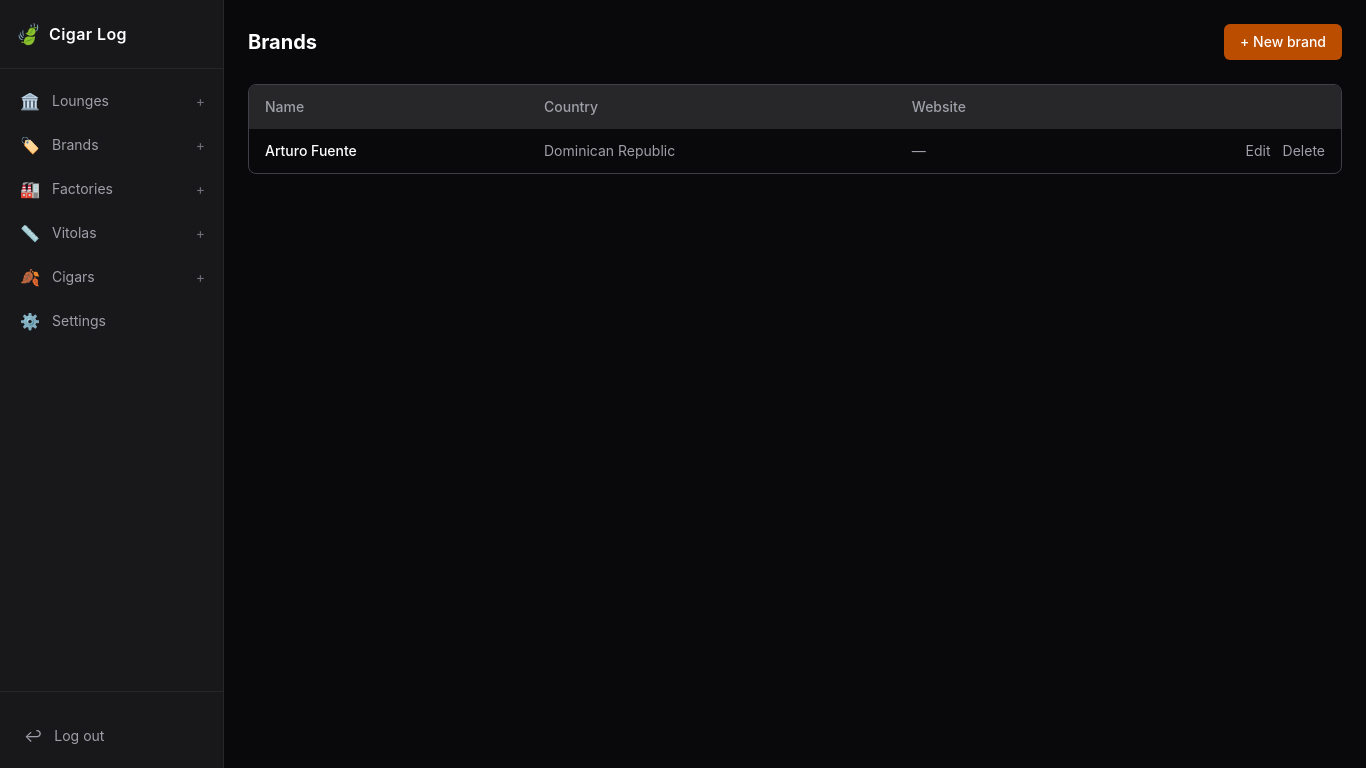
BrandsPage › opens create modal when New brand is clicked
Click the button "+ New brand" at {"x": 1283, "y": 42}, box top-left (1224, 24), bottom-right (1342, 60)
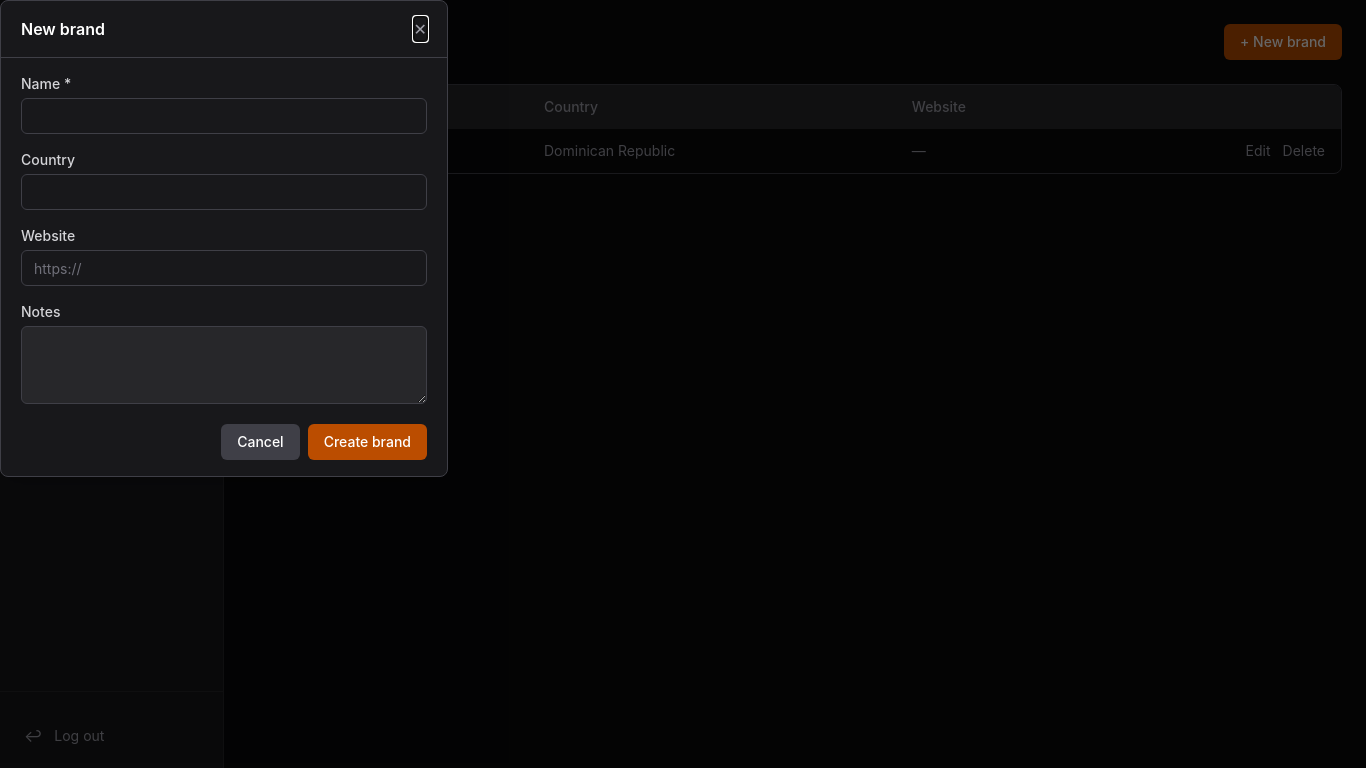
Now the heading "New brand" is shown, box top-left (21, 17), bottom-right (105, 41)
Now the field below "Name *" is shown, box top-left (21, 98), bottom-right (427, 134)
